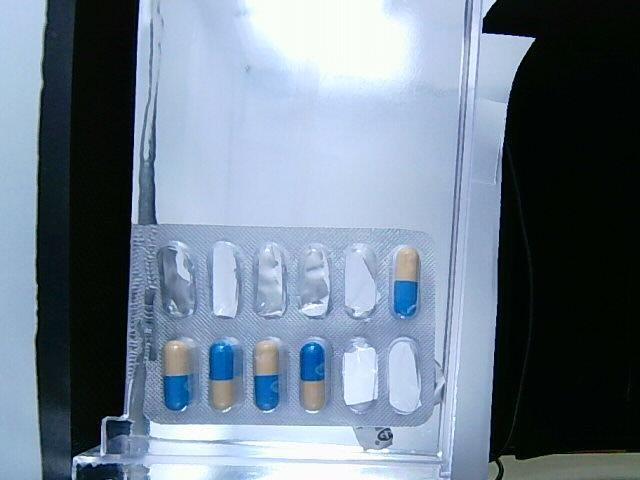Light Front: (128, 225, 442, 430)
No Pill Front: (158, 241, 196, 316), (343, 338, 378, 413), (345, 244, 380, 318), (255, 241, 288, 317), (389, 338, 421, 414), (299, 244, 330, 317), (209, 241, 239, 316)
Pill Front: (161, 338, 198, 412), (209, 336, 244, 412), (253, 336, 288, 411), (390, 245, 420, 318), (300, 338, 328, 412)
